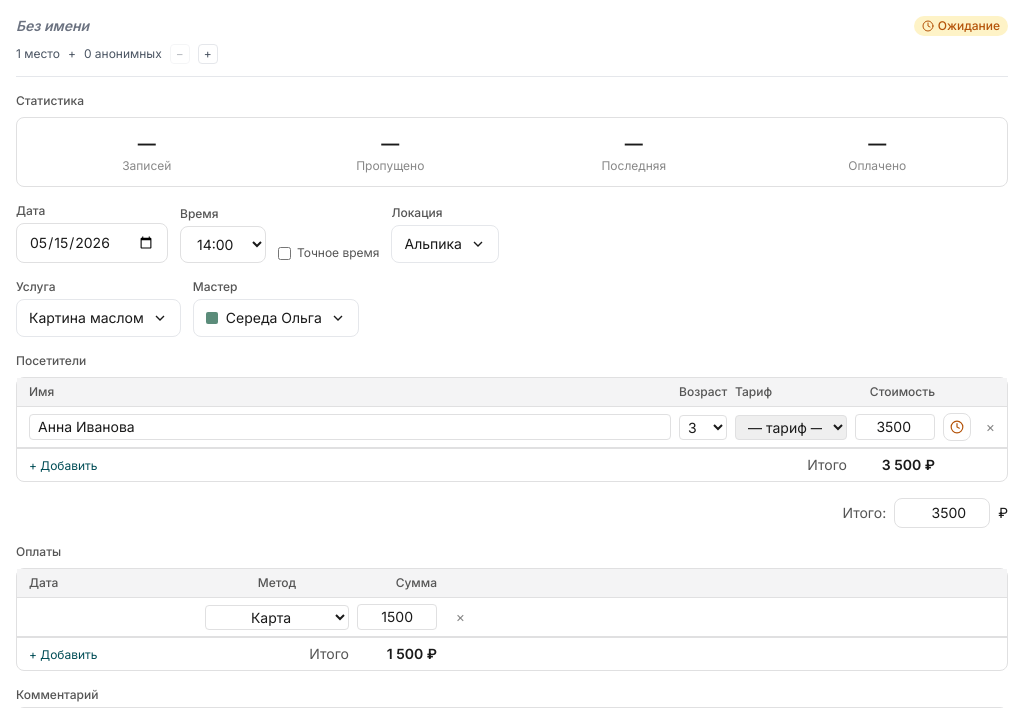
Scenario: ClientRecordTab — integration with shared atoms › shows AddVisitorForm when add button clicked
The width and height of the screenshot is (1024, 708).
What coordinates should you click on to do the following:
click the button with test id "btn-add-visitor"
I would click on:
 (63, 466)
Its box is [29,458,98,474].
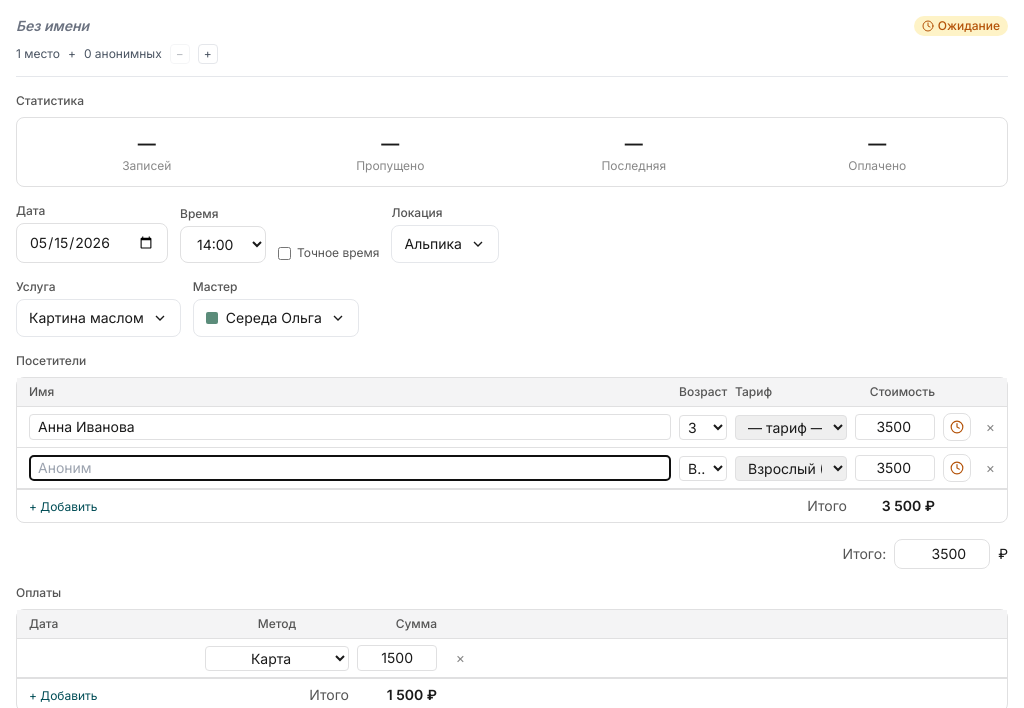
Check: the element with test id "visit-row-new" is shown, box [17,448,1007,489]
Check: the field with test id "add-visitor-name" is shown, box [29,455,671,481]
